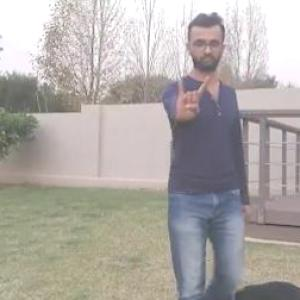takeoff-hand: (166, 62, 216, 123)
